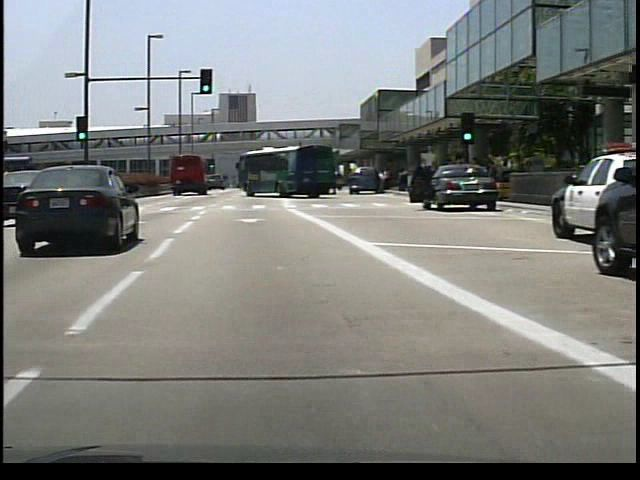person: (373, 168, 384, 194)
